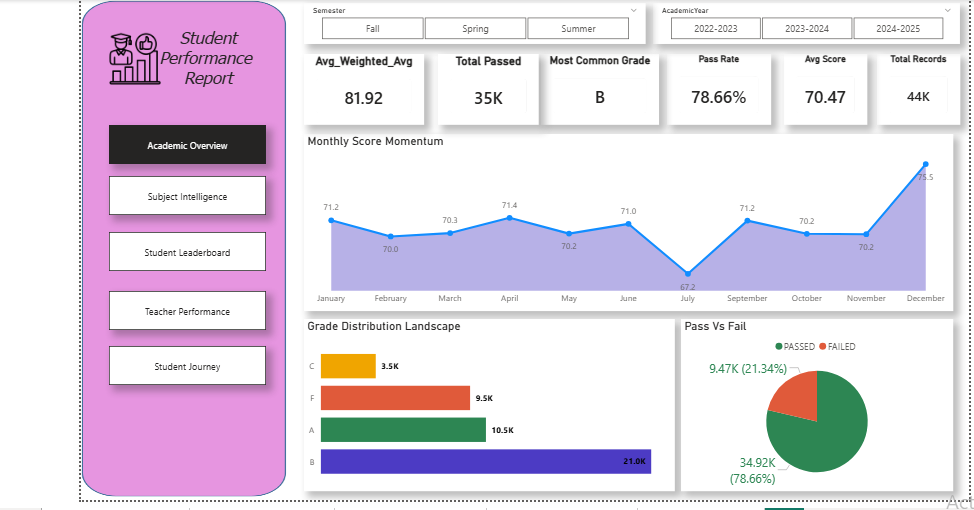

This screenshot's page, from the dashboard's own definition file:
{"tool":"powerbi","page":{"name":"Academic Overview","canvas":[1280,720],"ordinal":0},"visuals":[{"type":"cardVisual","title":"Total Records","fields":{"Data":["Measures (2).Total Records"]},"box":[1146.2,77.8,119.5,102.2],"z":0},{"type":"cardVisual","title":"Avg Score","fields":{"Data":["Measures (2).Avg_Score"]},"box":[1012.3,77.8,119.5,102.2],"z":1000},{"type":"cardVisual","title":"Pass Rate","fields":{"Data":["Measures (2).Pass_Rate%"]},"box":[843.8,77.8,149.8,102.2],"z":2000},{"type":"cardVisual","title":"Most Common Grade","fields":{"Data":["Measures (2).Most_Common_Grade"]},"box":[662.4,77.8,169.9,102.2],"z":3000},{"type":"areaChart","title":"Monthly Score Momentum","fields":{"Category":["DimCalendar.Date.Variation.Date Hierarchy.Month"],"Y":["Measures (2).Avg_Score"]},"box":[321.1,193,934.6,254.9],"z":4000},{"type":"clusteredBarChart","title":"Grade Distribution Landscape","fields":{"Y":["Measures (2).Grade Count"],"Category":["FactPerformance.FinalGrade"]},"box":[321.1,459.4,534.2,247.7],"z":5000},{"type":"slicer","fields":{"Values":["DimCalendar.AcademicYear"]},"box":[823.7,4.3,442.1,59],"z":6000},{"type":"slicer","fields":{"Values":["DimCalendar.Semester"]},"box":[321.1,4.3,492.5,59],"z":7000},{"type":"donutChart","title":"Pass Vs Fail","fields":{"Category":["FactPerformance.PassedCourse"],"Y":["CountNonNull(FactPerformance.PassedCourse)"]},"box":[864,459.4,391.7,247.7],"z":8000},{"type":"cardVisual","title":"Avg_Weighted_Avg","fields":{"Data":["Measures (2).Avg_Weighted_Avg"]},"box":[321.1,77.8,172.8,102.2],"z":9000},{"type":"cardVisual","title":"Total Passed","fields":{"Data":["Measures (2).Total_Passed"]},"box":[514.1,77.8,145.4,102.2],"z":10000},{"type":"image","box":[0,0,296.6,715.7],"z":11000},{"type":"pageNavigator","box":[40.3,180,226.1,56.2],"z":12000},{"type":"pageNavigator","box":[40.3,253.4,226.1,56.2],"z":13000},{"type":"pageNavigator","box":[40.3,334.1,226.1,56.2],"z":14000},{"type":"pageNavigator","box":[40.3,419,226.1,56.2],"z":15000},{"type":"pageNavigator","box":[40.3,498.2,226.1,56.2],"z":16000},{"type":"image","box":[40.3,17.3,74.9,135.4],"z":17000},{"type":"textbox","box":[99.4,34.6,167,118.1],"z":18000}]}

Visuals, with their boxes on the page's 1280x720 design canvas (x1, y1, x2, y2). These are canvas units, not pixel positions in the 974x510 screenshot, which may show the page scaled, cropped or inside an application window:
"Total Records" cardVisual: (1146, 78, 1266, 180)
"Avg Score" cardVisual: (1012, 78, 1132, 180)
"Pass Rate" cardVisual: (844, 78, 994, 180)
"Most Common Grade" cardVisual: (662, 78, 832, 180)
"Monthly Score Momentum" areaChart: (321, 193, 1256, 448)
"Grade Distribution Landscape" clusteredBarChart: (321, 459, 855, 707)
slicer - DimCalendar.AcademicYear: (824, 4, 1266, 63)
slicer - DimCalendar.Semester: (321, 4, 814, 63)
"Pass Vs Fail" donutChart: (864, 459, 1256, 707)
"Avg_Weighted_Avg" cardVisual: (321, 78, 494, 180)
"Total Passed" cardVisual: (514, 78, 660, 180)
image: (0, 0, 297, 716)
pageNavigator: (40, 180, 266, 236)
pageNavigator: (40, 253, 266, 310)
pageNavigator: (40, 334, 266, 390)
pageNavigator: (40, 419, 266, 475)
pageNavigator: (40, 498, 266, 554)
image: (40, 17, 115, 153)
textbox: (99, 35, 266, 153)
